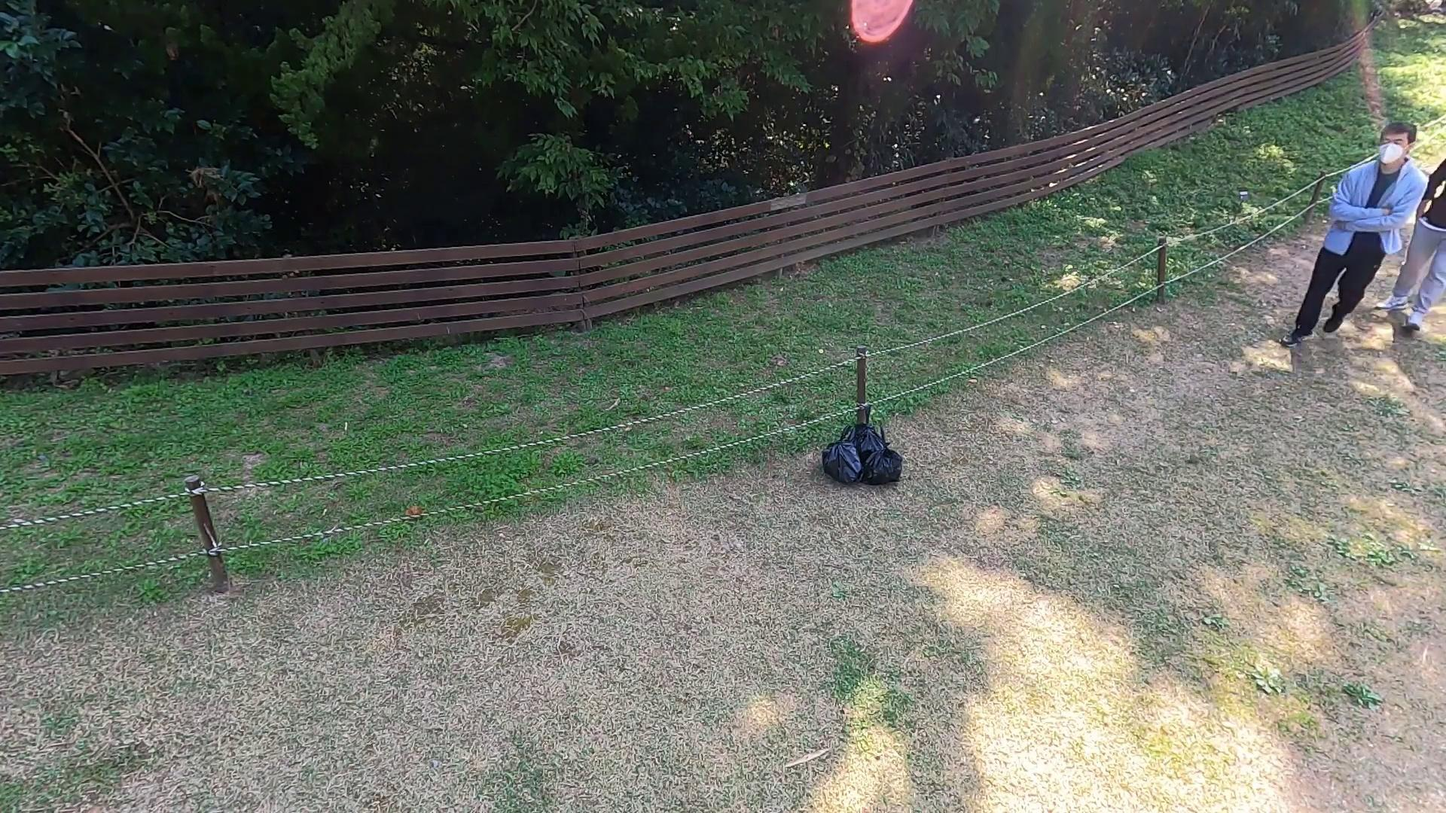person: (1275, 115, 1430, 358), (1376, 130, 1446, 357)
trash: (823, 435, 869, 491), (867, 448, 918, 491), (840, 411, 886, 457)
